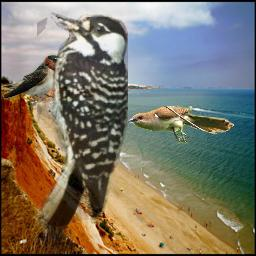Cuckoo: (127, 106, 234, 144)
Swallow: (1, 53, 66, 101)
Woodpecker: (37, 11, 128, 255)
